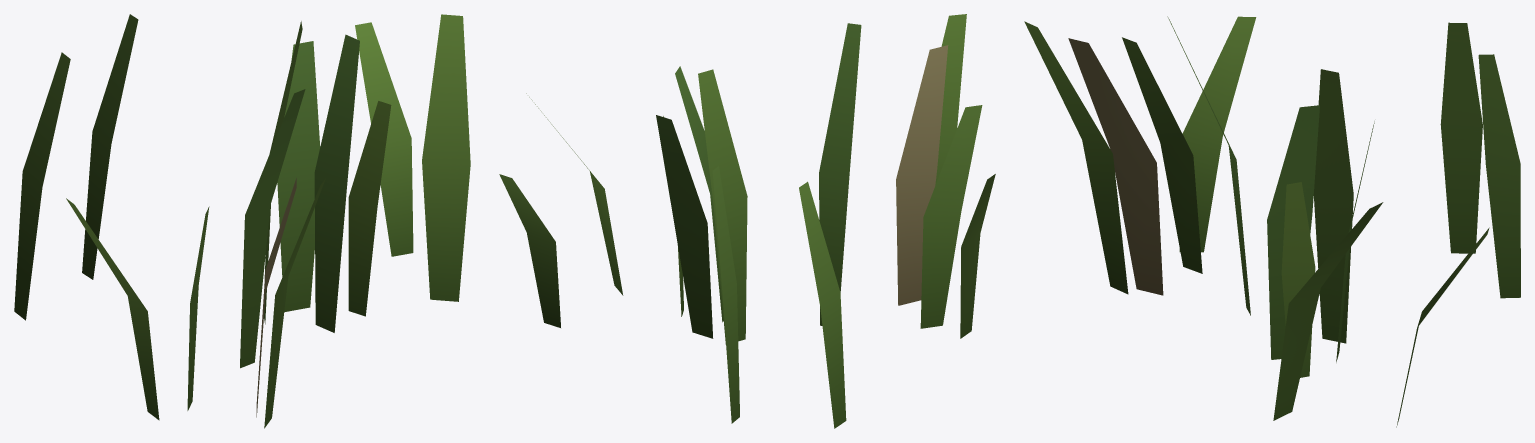
The model's file is grass_tuft_05.gltf.
3 renders of one model, left to right at view 1: azimuth 30°, elevation 25°; view 2: azimuth 150°, elevation 25°; view 3: azimuth 270°, elevation 25°, orthographic. The views are drawn at different scales.
Visible parts, largest first — view 1: grass_tuft_05.blades; view 2: grass_tuft_05.blades; view 3: grass_tuft_05.blades.
Part boxes in pixels (bbox=[...]): grass_tuft_05.blades: bbox=[14, 14, 470, 428]; grass_tuft_05.blades: bbox=[499, 14, 995, 428]; grass_tuft_05.blades: bbox=[1024, 16, 1520, 427].
Bounding box in the file's own units: 0.1178 × 0.0745 × 0.1116.
